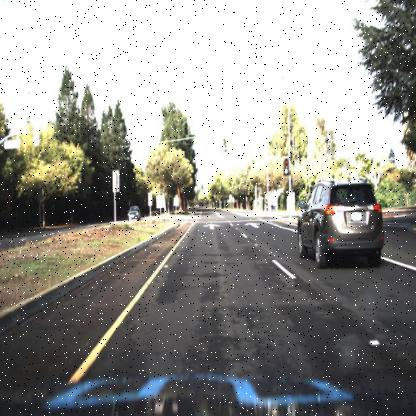car: (297, 178, 385, 271), (126, 203, 142, 223)
trafficLight-Green: (220, 138, 228, 154), (284, 158, 290, 176), (222, 139, 227, 156)
